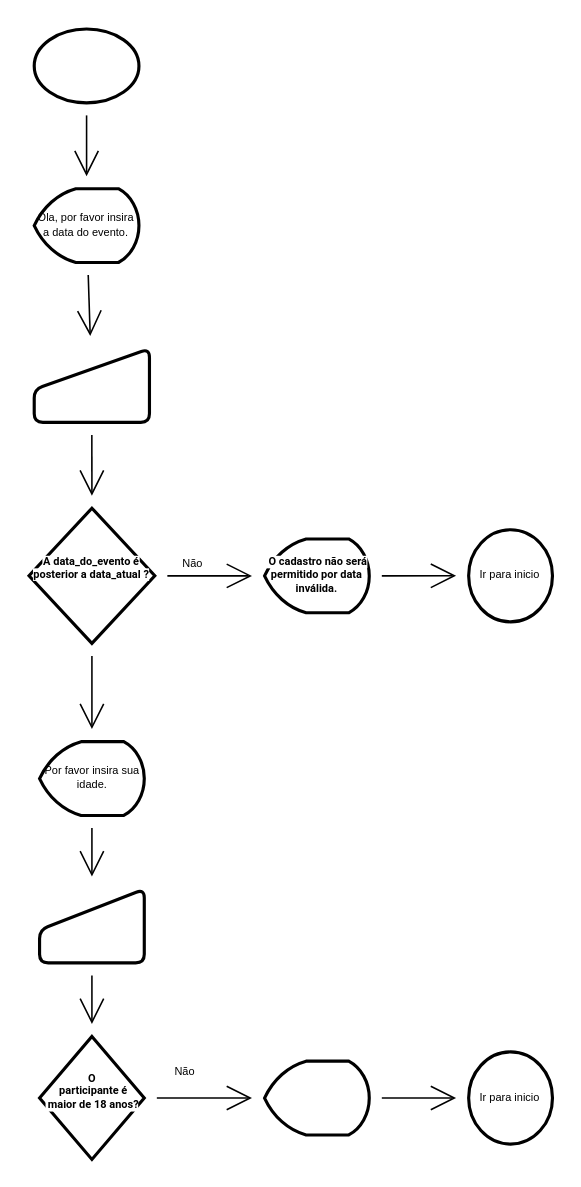
The diagram is 581 pixels wide and 1187 high, and some of its shapes have lost their labels. Each missing label, with the centre of its shape:
"data_do_evento" belongs at (x=91, y=384).
"Idade" belongs at (x=91, y=925).
"Inicio" belongs at (x=86, y=65).
"O cadastro não será permitido pela idade ." belongs at (x=316, y=1097).
